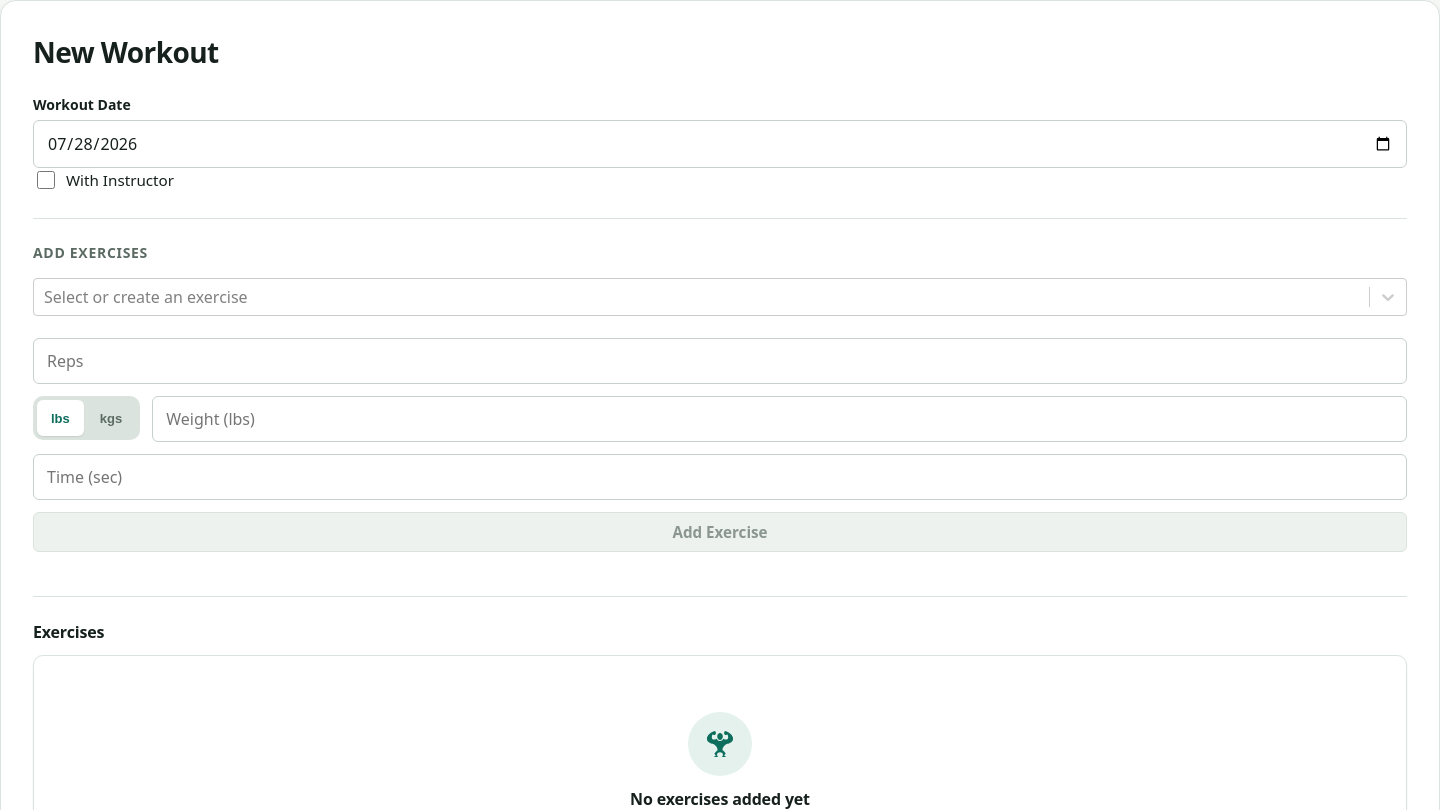
it: WorkoutForm › weight unit toggle › converts weight value when switching from kgs to lbs
// Switch to kgs first
Step 1. Click the button "kgs" → coordinates (111, 418), box [86,400,136,436]
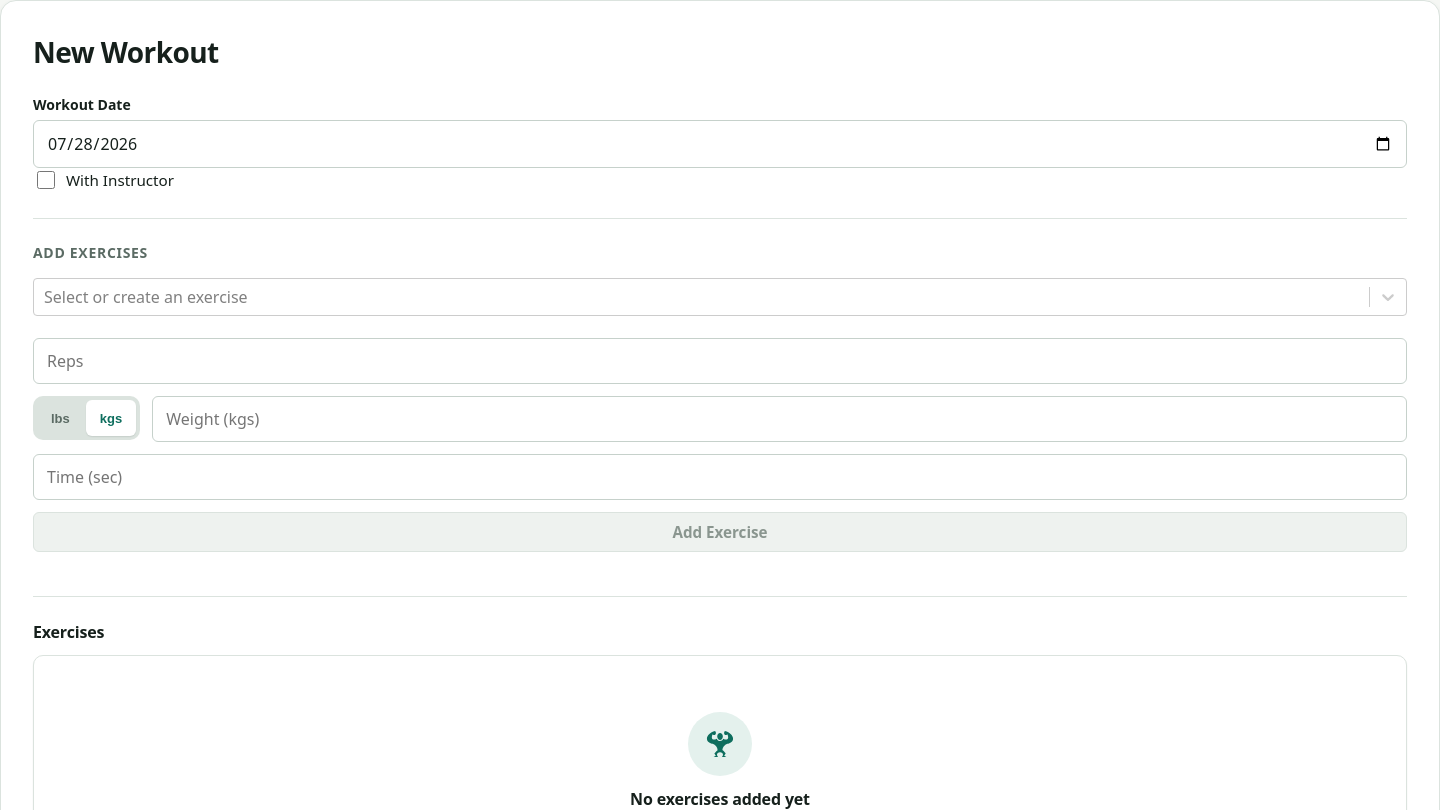
Expected: the number field with placeholder "Weight (kgs)" is shown
Step 2. Type "45.4" into the number field with placeholder "Weight (kgs)" → coordinates (780, 419), box [152,396,1407,442]
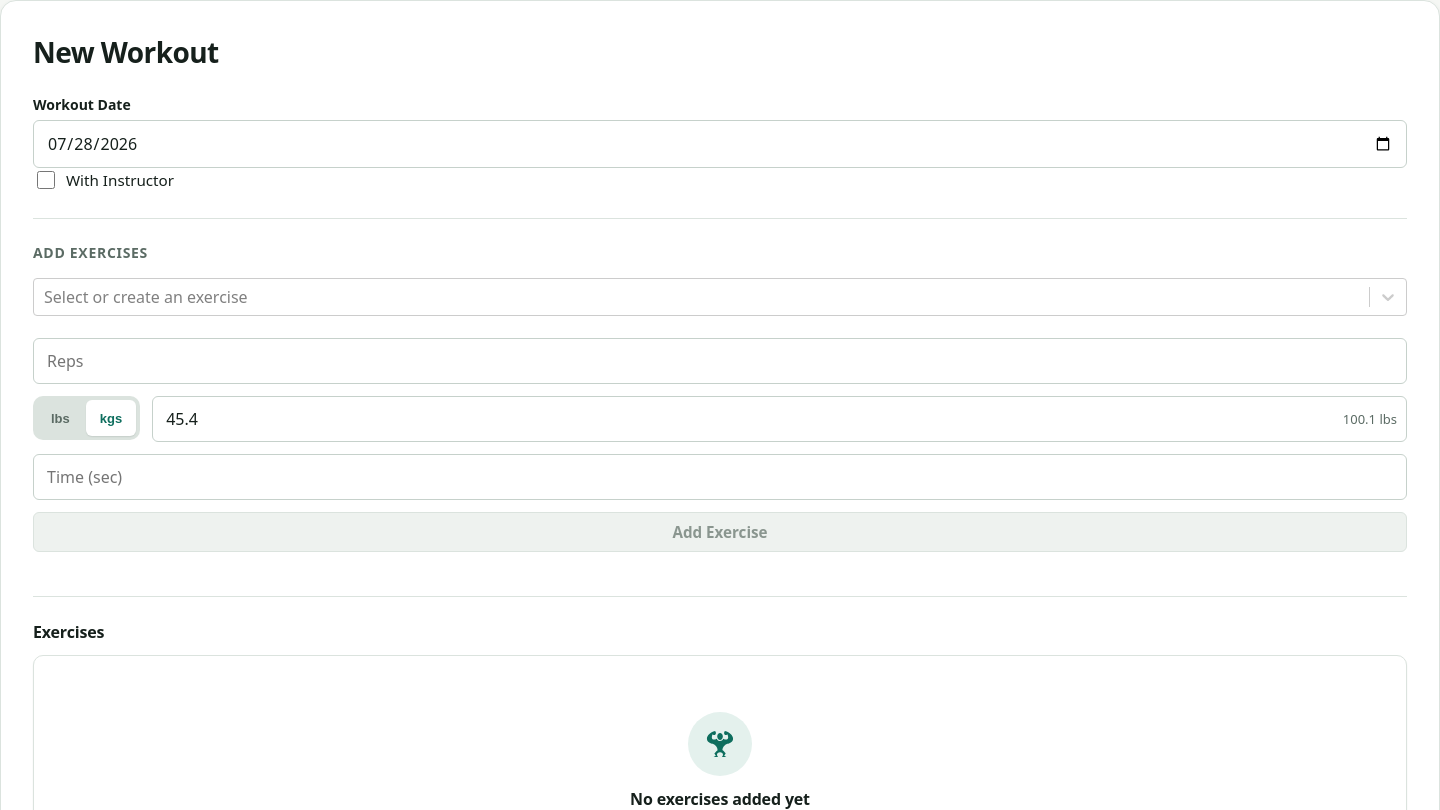
Step 3. Click the button "lbs" → coordinates (60, 418), box [37,400,84,436]
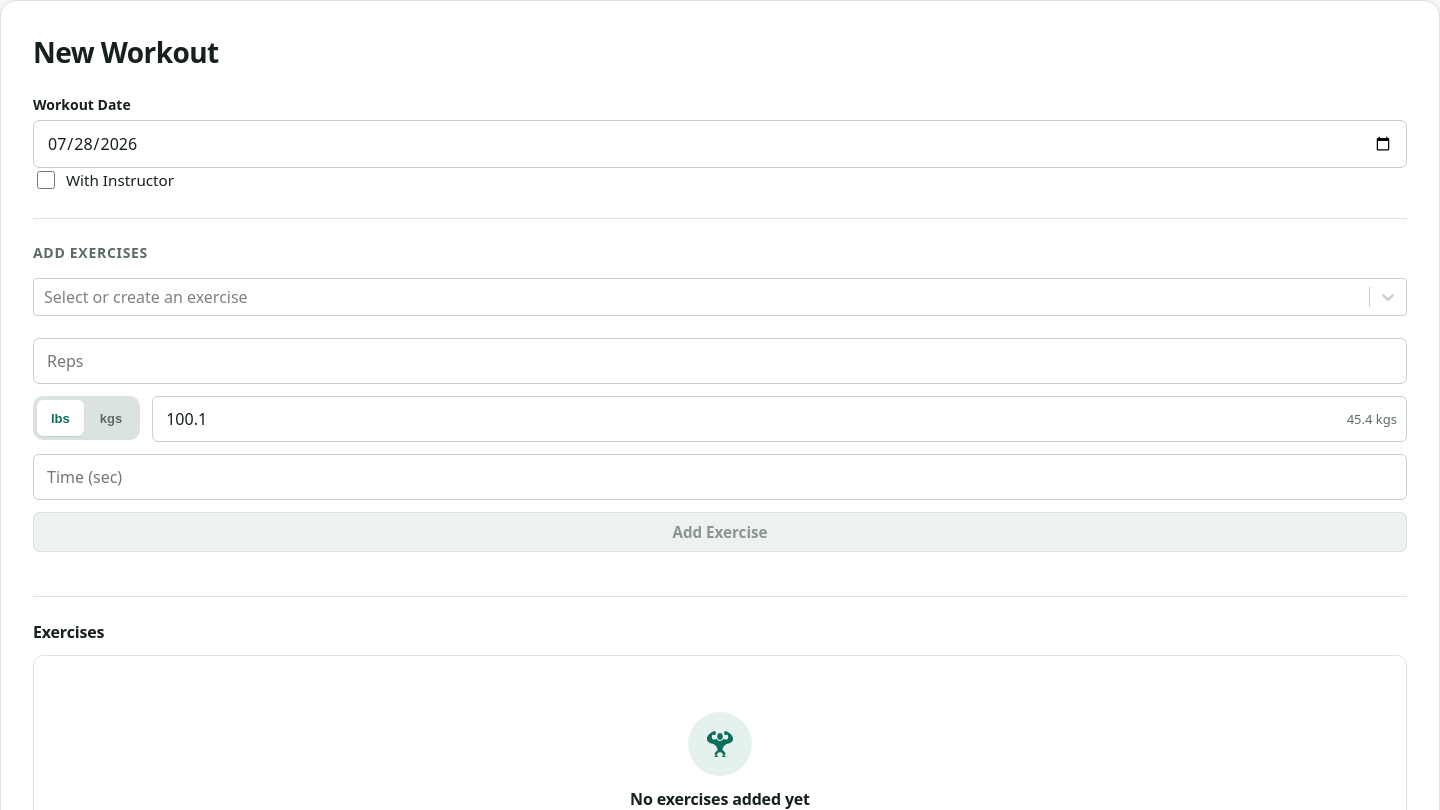
Expected: the number field with placeholder "Weight (kgs)" holds "100.1", [152,396,1407,442]
